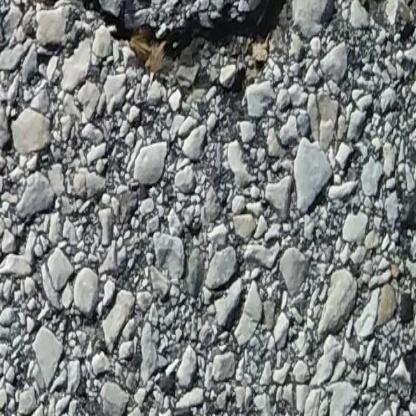Cracks: (18, 0, 309, 74), (347, 0, 403, 9)
